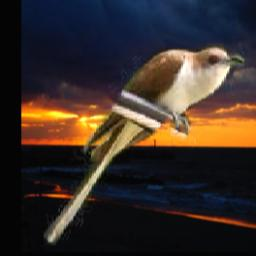Cuckoo: (45, 44, 245, 246)
